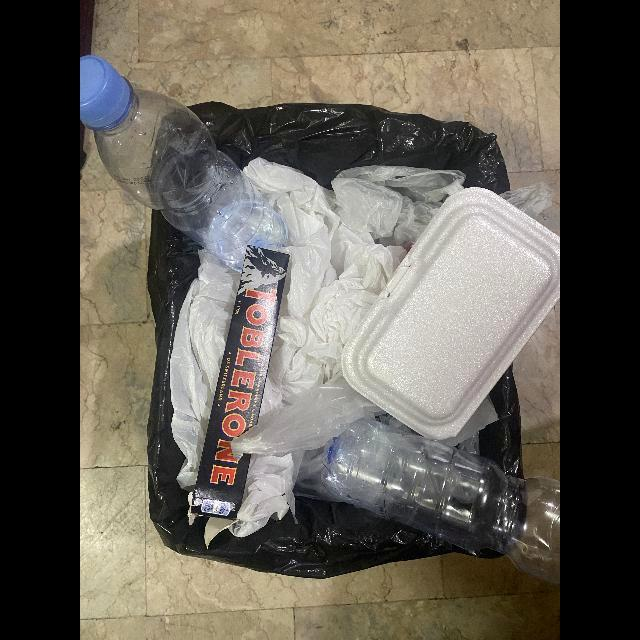cardboard: (187, 245, 290, 525)
plastic_bag: (231, 159, 464, 539), (243, 157, 467, 424), (169, 260, 239, 492)
plastic_bottle: (80, 54, 288, 273), (320, 417, 560, 585)
